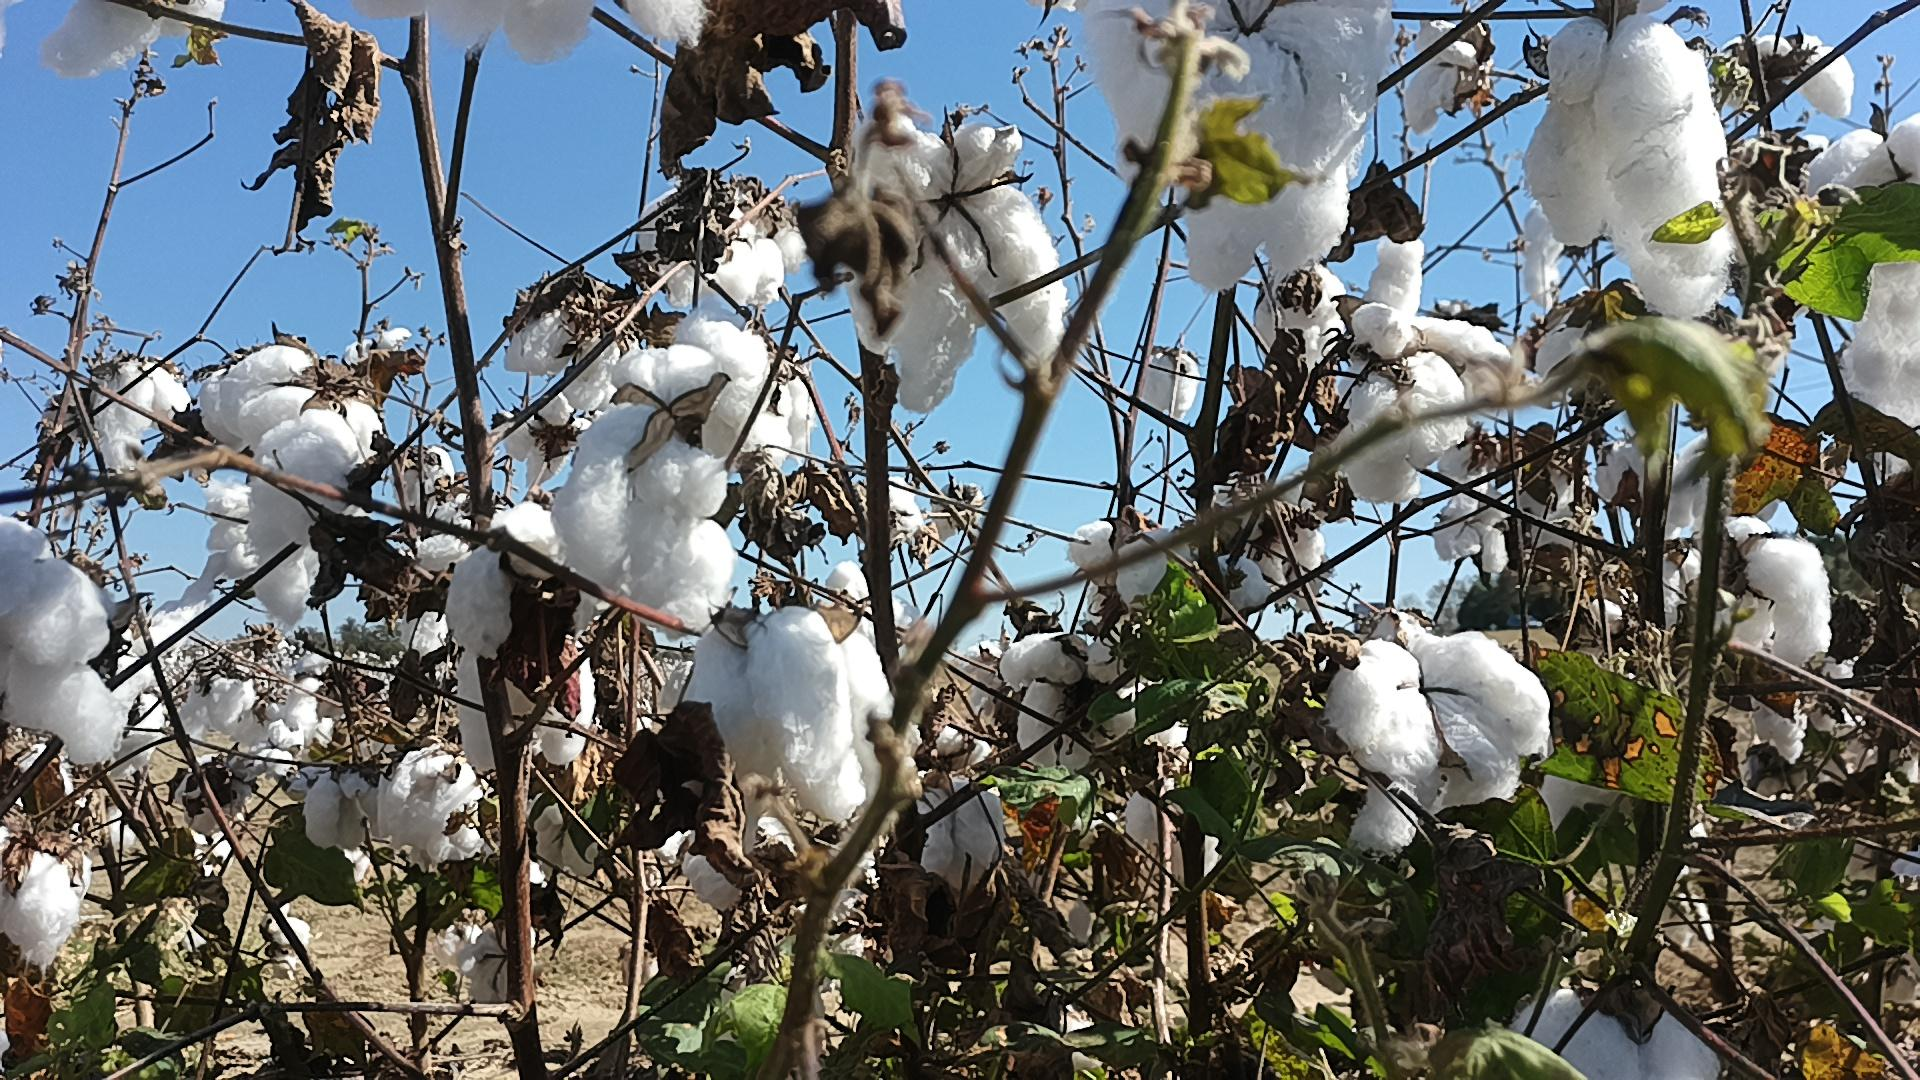cotton_ready: (1080, 0, 1398, 290), (849, 115, 1063, 415), (1526, 17, 1733, 323), (1328, 616, 1553, 861), (1337, 231, 1518, 501), (698, 613, 913, 823), (446, 498, 613, 765), (554, 405, 736, 633), (1803, 113, 1920, 436), (601, 315, 818, 471), (0, 516, 128, 769), (998, 629, 1188, 777), (249, 413, 365, 626), (353, 0, 711, 63), (636, 185, 814, 310), (1685, 513, 1829, 665), (215, 343, 384, 462), (1518, 990, 1720, 1080), (501, 293, 647, 409), (200, 477, 314, 618), (42, 0, 231, 75), (895, 770, 1006, 891), (371, 741, 481, 861), (0, 836, 92, 969), (94, 356, 203, 467), (1731, 28, 1863, 117), (1068, 518, 1192, 605), (1217, 513, 1325, 603), (1408, 13, 1484, 125), (298, 773, 384, 853), (1139, 353, 1197, 413)
